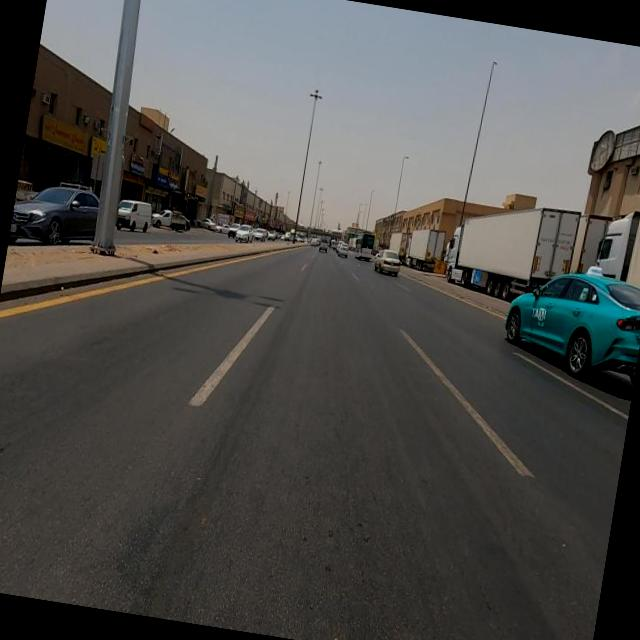debris: (543, 81, 640, 196)
